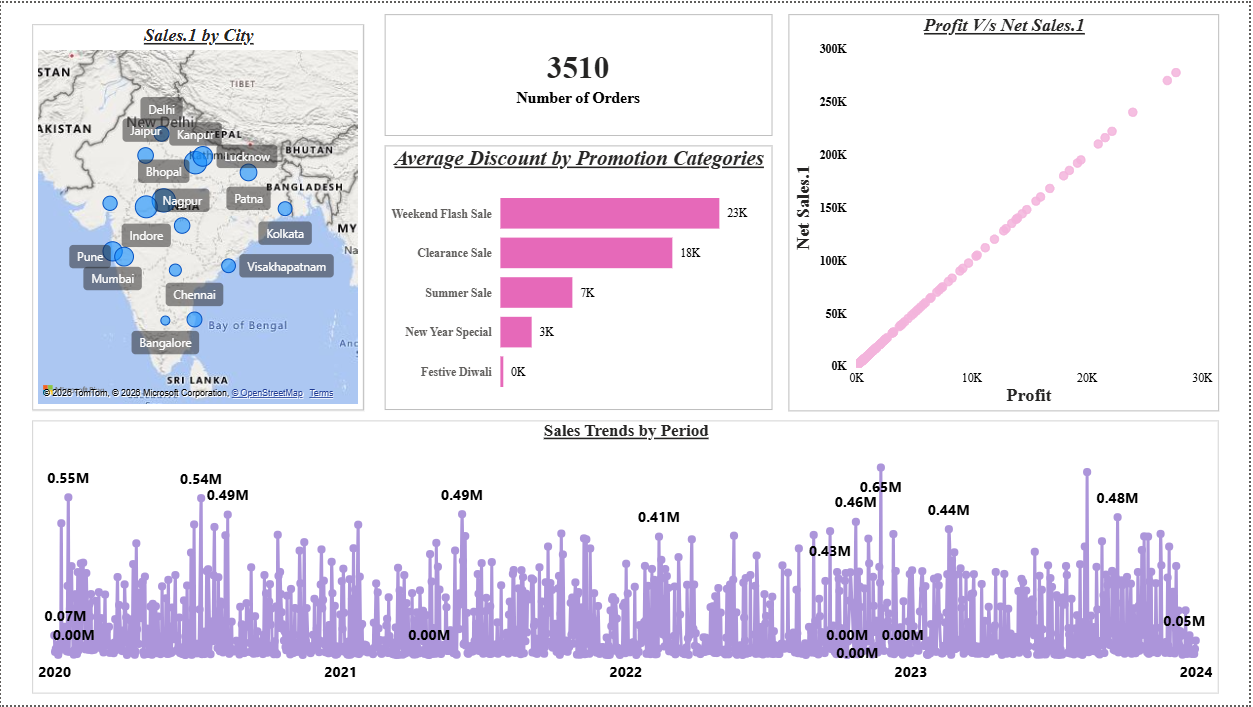

Layout of this report page (visuals, bound fields, positions):
{"tool":"powerbi","page":{"name":"Overview","canvas":[1280,720],"ordinal":0},"visuals":[{"type":"lineChart","title":"Sales Trends by Period","fields":{"Y":["Sum(Fact Table.Net Sales.1)"],"Category":["Fact Table.Date (dd/mm/yyyy).Variation.Date Hierarchy.Year"]},"box":[31.8,428,1216.7,280],"z":0},{"type":"scatterChart","title":"Profit V/s Net Sales.1","fields":{"X":["Fact Table.Profit"],"Y":["Fact Table.Net Sales.1"]},"box":[807.1,11,441.4,407.2],"z":1000},{"type":"barChart","title":"Average Discount by Promotion Categories","fields":{"Y":["Avg(Fact Table.Discount)"],"Category":["Dim Promotion.Promotion Name"]},"box":[393.8,146.7,397.4,271.5],"z":2000},{"type":"map","title":"Sales.1 by City","fields":{"Category":["Dim Customers.City"],"Size":["Sum(Fact Table.Net Sales.1)"]},"box":[31.8,22,339.9,396.2],"z":3000},{"type":"card","fields":{"Values":["Count(Fact Table.Order ID)"]},"box":[393.8,11,397.4,124.7],"z":4000}]}

Visuals, with their boxes in screenshot pixels (x1, y1, x2, y2), scaled from the page's 1280x720 canvas onto the 1253x707 screenshot:
"Sales Trends by Period" lineChart: bbox=[31, 420, 1222, 695]
"Profit V/s Net Sales.1" scatterChart: bbox=[790, 11, 1222, 411]
"Average Discount by Promotion Categories" barChart: bbox=[385, 144, 775, 411]
"Sales.1 by City" map: bbox=[31, 22, 364, 411]
card - Count(Fact Table.Order ID): bbox=[385, 11, 775, 133]
